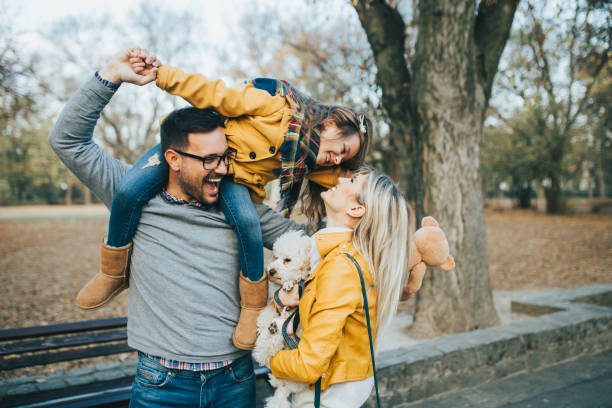without mask: (157, 106, 237, 203), (306, 114, 366, 175), (321, 169, 381, 230)
